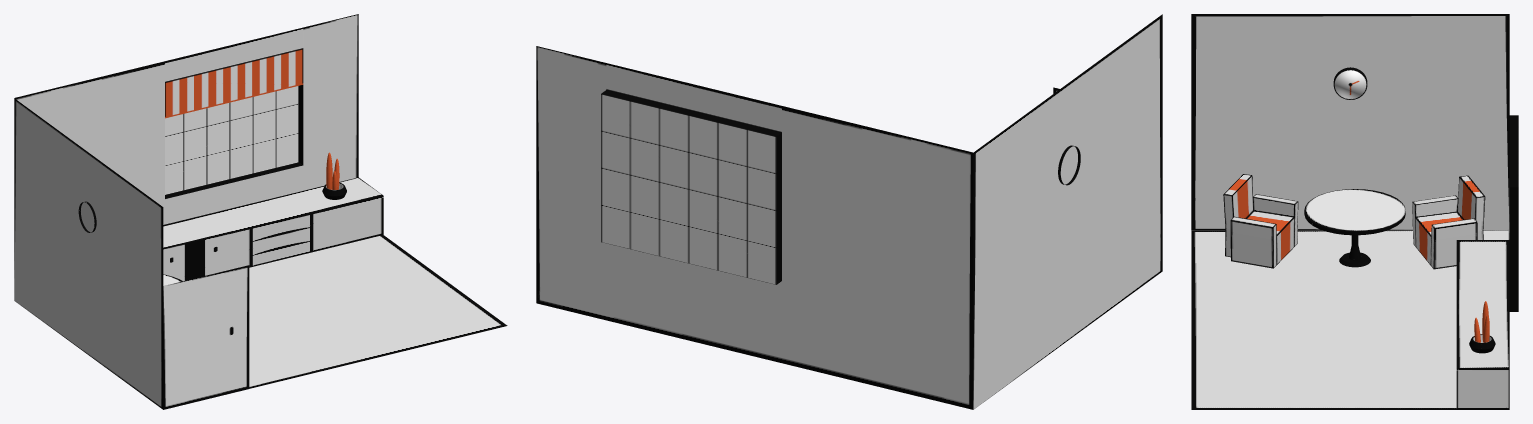
File: office4.fbx
The picture shows the model from 3 angles, left to right: view 1: azimuth 30°, elevation 25°; view 2: azimuth 150°, elevation 25°; view 3: azimuth 270°, elevation 25°; orthographic projection. The views are drawn at different scales.
Parts seen in each view (by area): view 1: Cube.001; view 2: Cube.001; view 3: Cube.001.
Boxes of the visible parts, x1,y1,x2,y2 form: Cube.001: (14, 14, 507, 409); Cube.001: (536, 14, 1162, 409); Cube.001: (1191, 14, 1518, 409).
Size of the model in its own units: 3220 by 1800 by 2468.
2 materials, 2 textured.
